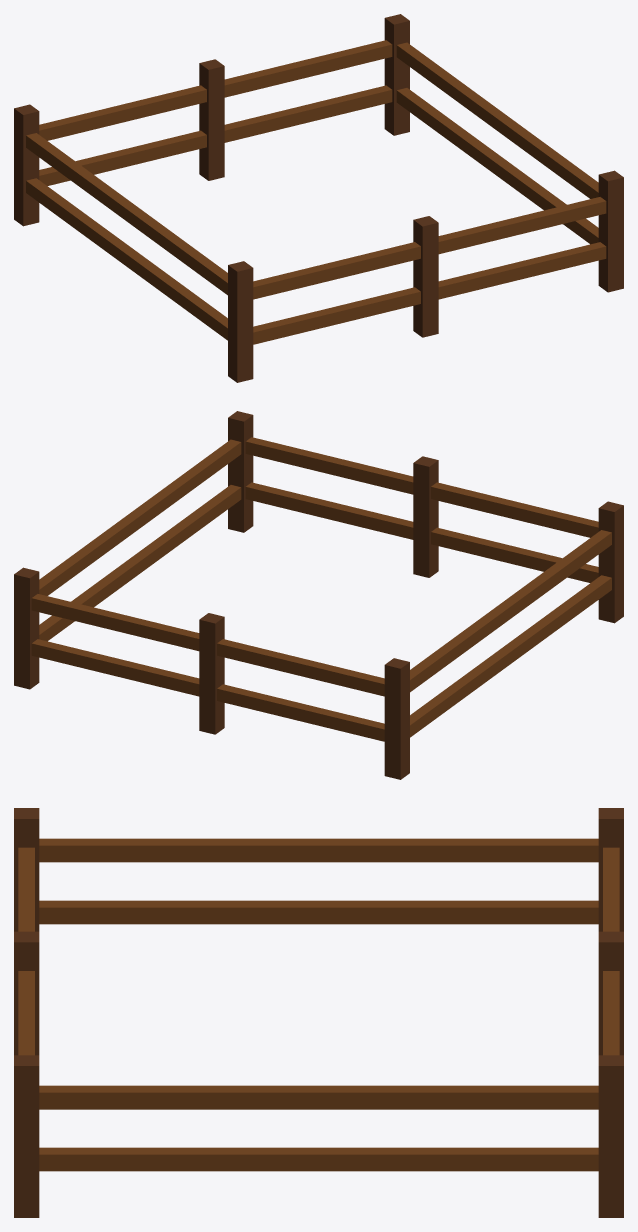
The model's file is fence.glb.
3 renders of one model, top to bottom at view 1: azimuth 30°, elevation 25°; view 2: azimuth 150°, elevation 25°; view 3: azimuth 270°, elevation 25°, orthographic. The views are drawn at different scales.
Visible parts, largest first — view 1: Fence rail, Fence post; view 2: Fence rail, Fence post; view 3: Fence rail, Fence post.
Boxes of the visible parts, left/top/right/bottom form: Fence rail: left=26, top=40, right=606, bottom=344; Fence post: left=14, top=14, right=623, bottom=382; Fence rail: left=31, top=437, right=611, bottom=741; Fence post: left=14, top=411, right=623, bottom=779; Fence rail: left=18, top=838, right=619, bottom=1171; Fence post: left=14, top=808, right=623, bottom=1217.
Bounding box in the file's own units: 3.13 × 0.86 × 3.13.
